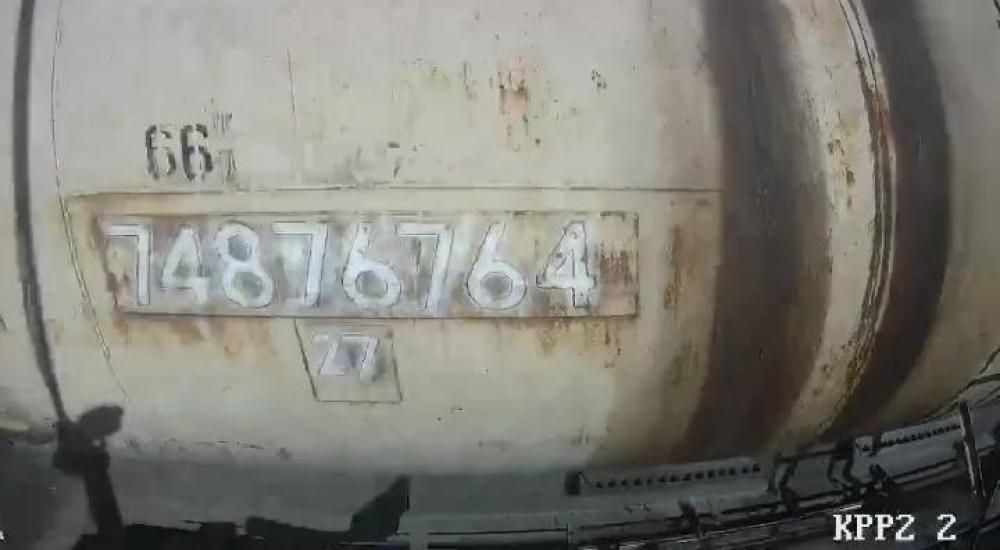Wagon-number: (100, 218, 610, 318)
